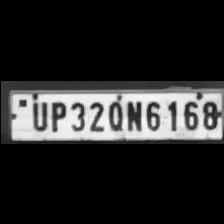1: (163, 97, 179, 130)
2: (86, 97, 104, 130)
3: (66, 97, 86, 130)
6: (179, 96, 199, 130), (142, 97, 162, 130)
8: (200, 98, 220, 130)
N: (123, 97, 141, 131)
P: (46, 97, 66, 130)
Q: (104, 97, 122, 130)
U: (26, 98, 46, 130)
